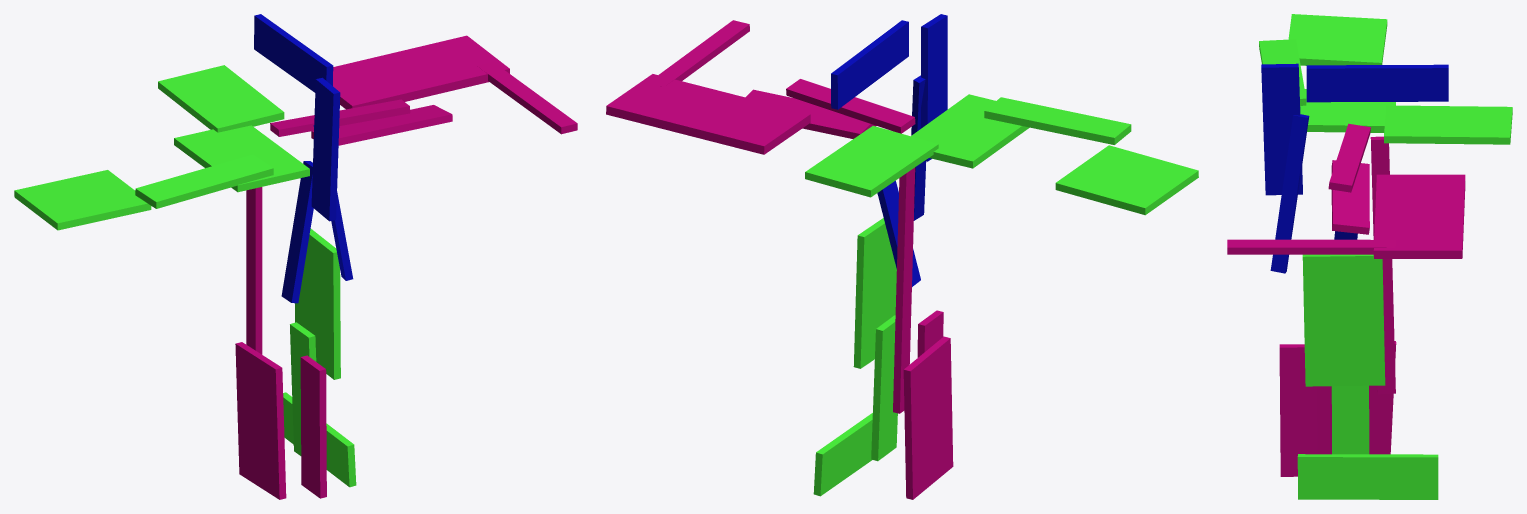
3 views of the same model, side by side, from view 1: azimuth 30°, elevation 25°; view 2: azimuth 150°, elevation 25°; view 3: azimuth 270°, elevation 25° (orthographic). The views are drawn at different scales.
Parts seen in each view (by area): view 1: LForeArm_Cube, RFoot_Cube, RHand_Cube, RShoulder_Cube, LUpLeg_Cube, RArm_Cube, RLeg_Cube, Head_Cube, RForeArm_Cube, Head_End_Cube, RUpLeg_Cube, Hips_Cube (+6 smaller); view 2: LForeArm_Cube, RFoot_Cube, RHand_Cube, RShoulder_Cube, LUpLeg_Cube, RArm_Cube, RUpLeg_Cube, RForeArm_Cube, Head_End_Cube, LLeg_Cube, LFoot_Cube, Head_Cube (+6 smaller); view 3: LUpLeg_Cube, LForeArm_Cube, LFoot_Cube, Head_End_Cube, RShoulder_Cube, RHand_Cube, RLeg_Cube, Head_Cube, LLeg_Cube, RFoot_Cube, LHand_Cube, RUpLeg_Cube (+5 smaller).
Boxes of the visible parts, <box> form: LForeArm_Cube: <box>333,35,509,109</box>; RFoot_Cube: <box>235,342,286,499</box>; RHand_Cube: <box>14,170,151,230</box>; RShoulder_Cube: <box>158,65,284,132</box>; LUpLeg_Cube: <box>295,228,340,379</box>; RArm_Cube: <box>174,125,309,192</box>; RLeg_Cube: <box>300,355,326,498</box>; Head_Cube: <box>311,77,340,221</box>; RForeArm_Cube: <box>135,154,273,208</box>; Head_End_Cube: <box>254,14,333,92</box>; RUpLeg_Cube: <box>246,187,262,354</box>; Hips_Cube: <box>281,161,313,303</box>; LForeArm_Cube: <box>606,74,810,154</box>; RFoot_Cube: <box>903,336,953,499</box>; RHand_Cube: <box>1055,145,1198,215</box>; RShoulder_Cube: <box>805,126,938,197</box>; LUpLeg_Cube: <box>853,218,896,368</box>; RArm_Cube: <box>911,94,1029,168</box>; RUpLeg_Cube: <box>893,167,915,413</box>; RForeArm_Cube: <box>984,97,1131,144</box>; Head_End_Cube: <box>831,20,908,109</box>; LLeg_Cube: <box>871,315,897,461</box>; LFoot_Cube: <box>813,413,872,496</box>; Head_Cube: <box>921,14,947,161</box>; LUpLeg_Cube: <box>1302,254,1385,386</box>; LForeArm_Cube: <box>1373,174,1465,258</box>; LFoot_Cube: <box>1297,454,1438,499</box>; Head_End_Cube: <box>1306,64,1448,102</box>; RShoulder_Cube: <box>1384,105,1512,144</box>; RHand_Cube: <box>1288,14,1387,65</box>; RLeg_Cube: <box>1279,344,1317,476</box>; Head_Cube: <box>1261,63,1302,195</box>; LLeg_Cube: <box>1331,385,1369,454</box>; RFoot_Cube: <box>1317,341,1396,454</box>; LHand_Cube: <box>1227,239,1395,254</box>; RUpLeg_Cube: <box>1370,136,1395,394</box>.
Bounding box in the file's own units: 213 × 176 × 106.
